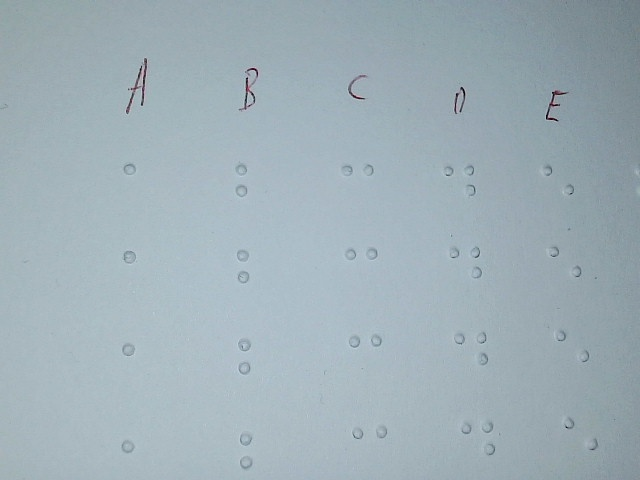A: (116, 154, 173, 238), (115, 244, 172, 328), (114, 334, 171, 418)
B: (226, 156, 277, 230), (227, 240, 278, 314), (229, 329, 280, 403)
C: (334, 154, 385, 228), (338, 239, 389, 313), (342, 327, 393, 401)
